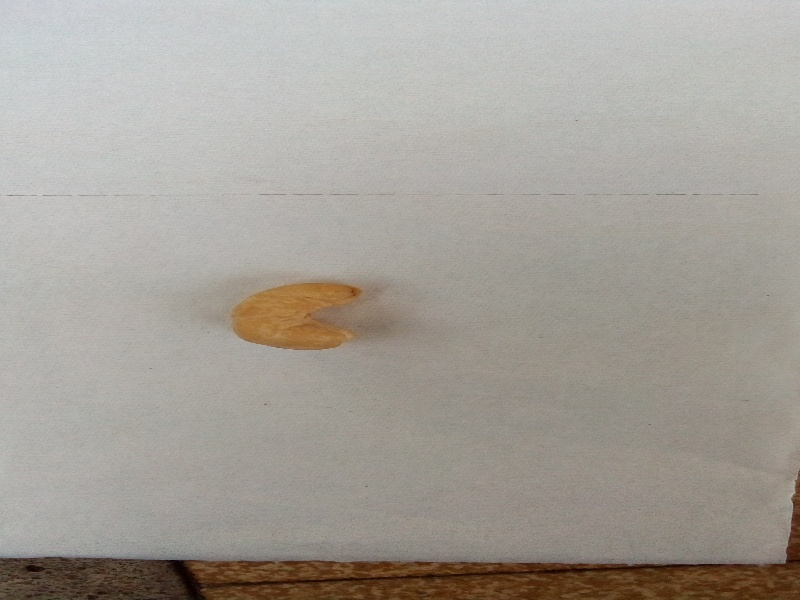cashew: (208, 268, 392, 372)
